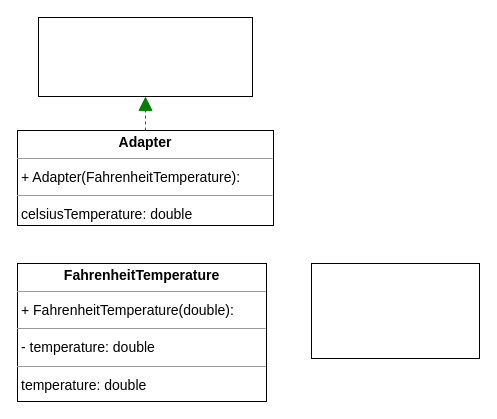
Some shapes in this 497 by 419 pixel diagram are drawn without their labels. Each missing label, with the centre of its shape:
<<interface>> CelsiusTemperature celsiusTemperature: double: point (145, 56)
Main + Main(): + main(String[]): void: point (395, 310)
